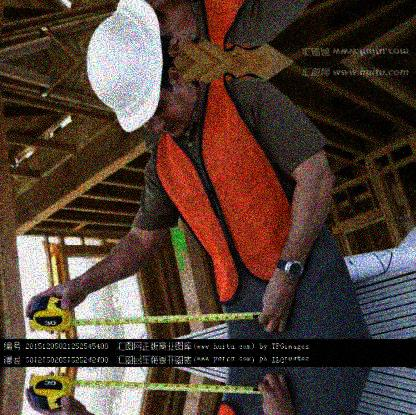helmet: (84, 61, 197, 140), (82, 1, 199, 60)
